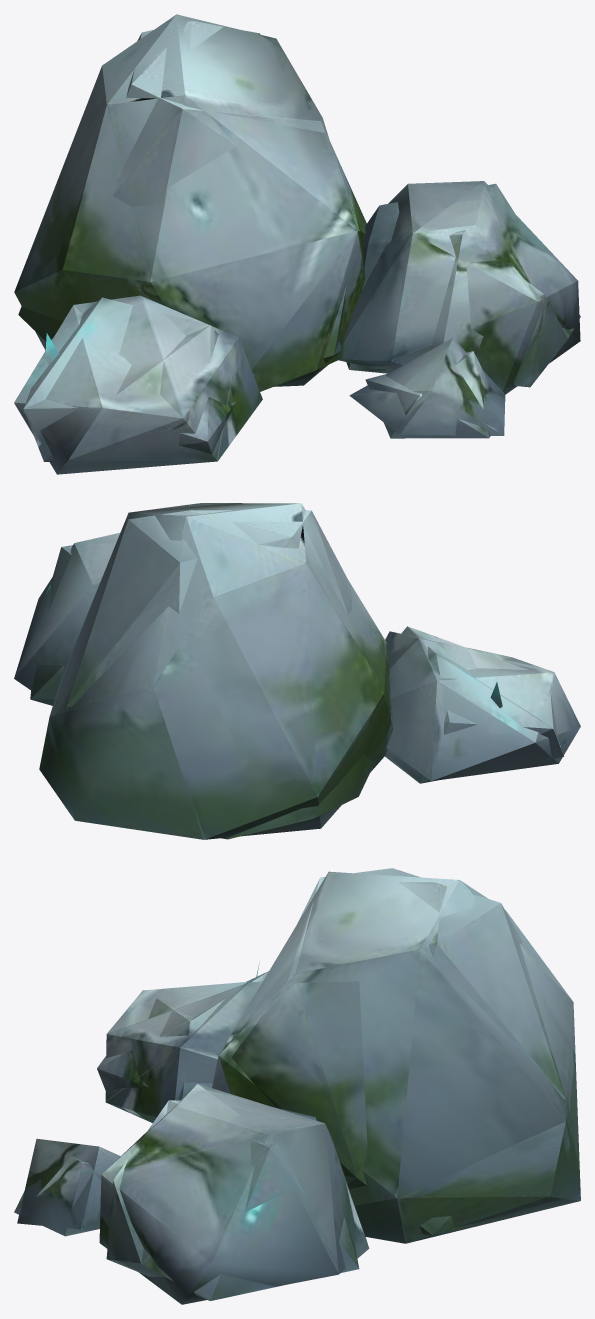
Rendered from v-rochers-semis.glb.
3 renders of one model, top to bottom at view 1: azimuth 30°, elevation 25°; view 2: azimuth 150°, elevation 25°; view 3: azimuth 270°, elevation 25°, orthographic. The views are drawn at different scales.
Visible parts, largest first — view 1: v-rochers-semis; view 2: v-rochers-semis; view 3: v-rochers-semis.
Part boxes in pixels (x1,y1,x2,y2): v-rochers-semis: (14,14,580,474); v-rochers-semis: (14,503,580,839); v-rochers-semis: (14,868,580,1304).
Size of the model in its own units: 2.01 by 1.05 by 1.78.
Materials: 1 (1 with a texture image).
